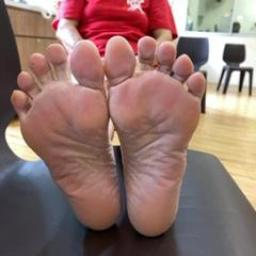Plantar View -Both Feet-: (1, 23, 216, 252)
